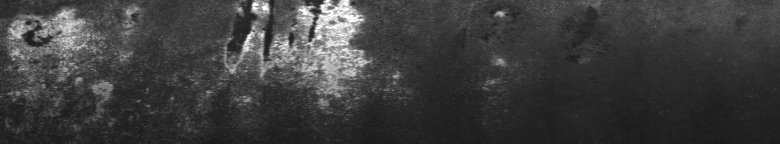kb: (4, 4, 402, 133)
